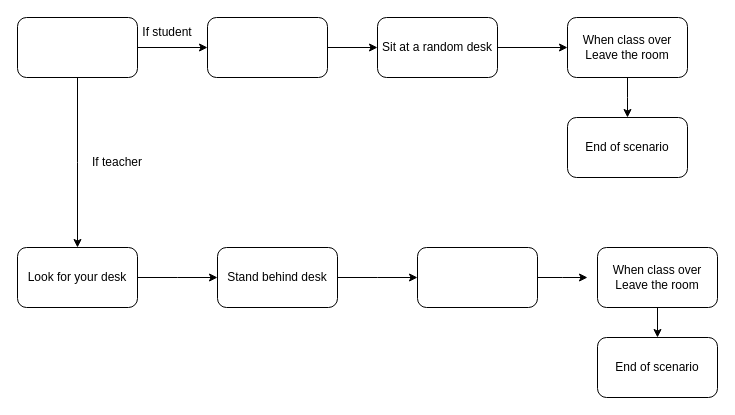
The diagram is 735 pixels wide and 415 high, and some of its shapes have lost their labels. Here are the shapes that lost their labels. From the top down, the centre of each, then its label:
At [77,47]: "Computer Science Class Start".
At [267,47]: "Go to the amphitheater".
At [477,277]: "Can switch slides".
